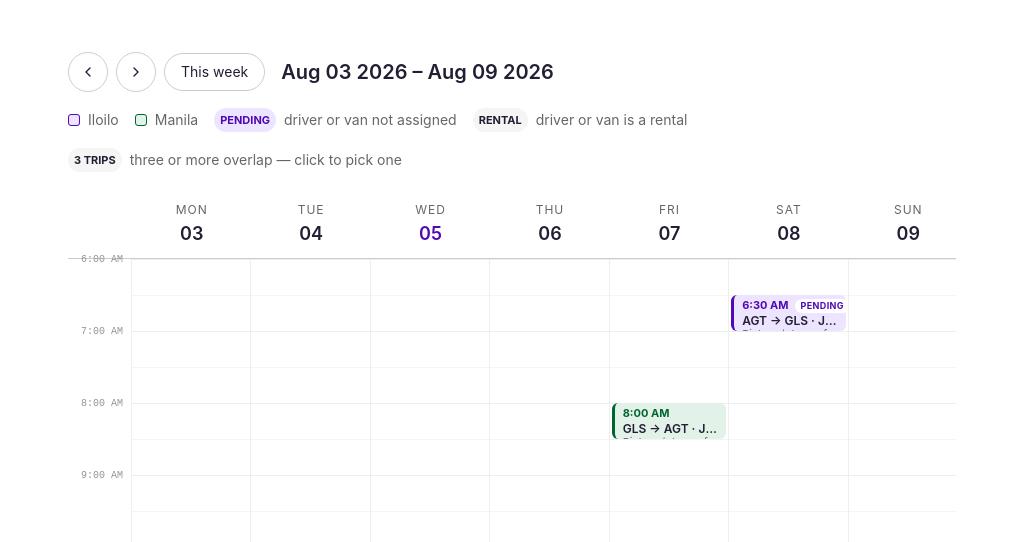
CalendarView blocks › opens the trip drawer for the block that was clicked
Click the button with aria-label "Trip REQ-1049, Jimera, Arielle, 8:00 AM, Manila": coordinates (669, 421) [612,403,726,439]
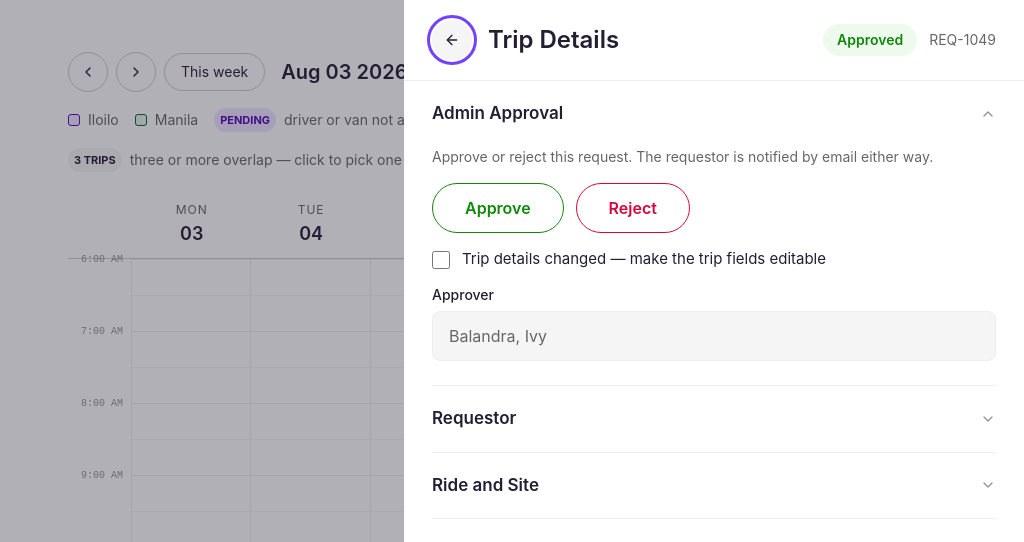
Now the text "REQ-1049" is shown, box [929,30,996,50]
